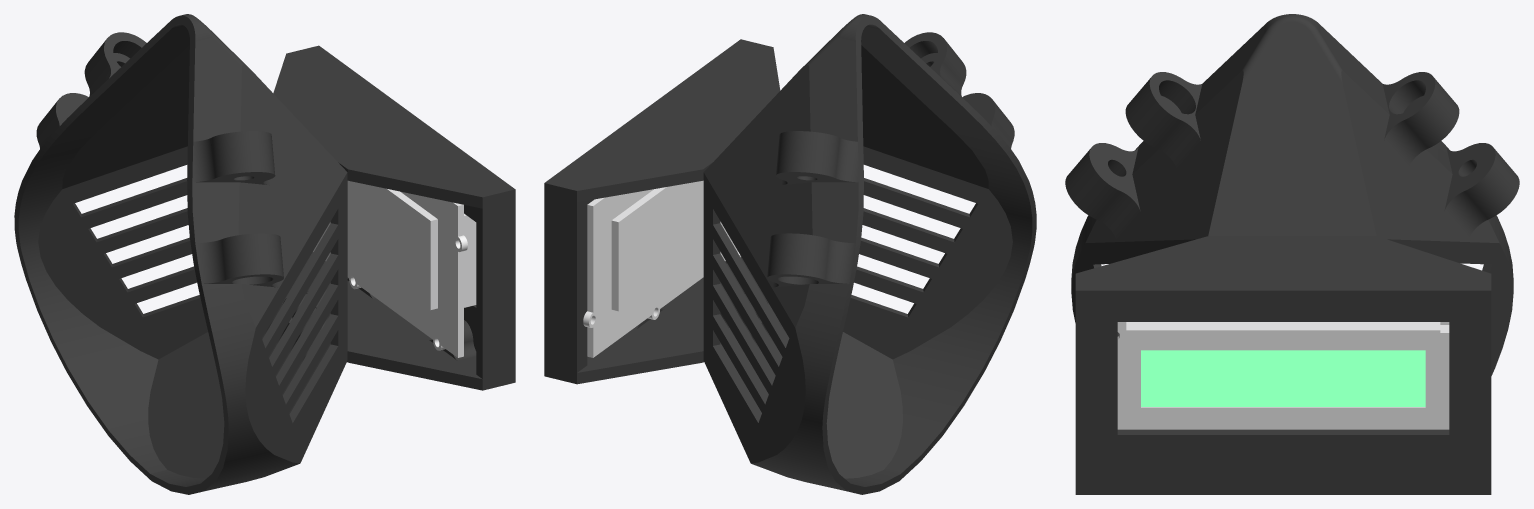
Rendered from caption-mask.glb.
The picture shows the model from 3 angles, left to right: view 1: azimuth 30°, elevation 25°; view 2: azimuth 150°, elevation 25°; view 3: azimuth 270°, elevation 25°; orthographic projection. The views are drawn at different scales.
Visible parts, largest first — view 1: Fillet15, Fillet2, Boss-Extrude6; view 2: Fillet15, Fillet2, Boss-Extrude6; view 3: Fillet15, Fillet2, Boss-Extrude6, Box001.
Boxes of the visible parts, x1=… form: Fillet15: x1=14, y1=14, x2=347, y2=494; Fillet2: x1=273, y1=45, x2=515, y2=390; Boss-Extrude6: x1=313, y1=180, x2=476, y2=357; Fillet15: x1=703, y1=14, x2=1036, y2=494; Fillet2: x1=544, y1=39, x2=780, y2=384; Boss-Extrude6: x1=583, y1=180, x2=740, y2=357; Fillet15: x1=1065, y1=14, x2=1519, y2=375; Fillet2: x1=1075, y1=236, x2=1491, y2=494; Boss-Extrude6: x1=1117, y1=322, x2=1449, y2=429; Box001: x1=1141, y1=350, x2=1425, y2=406.
Size of the model in its own units: 0.0821 by 0.12 by 0.1027.
